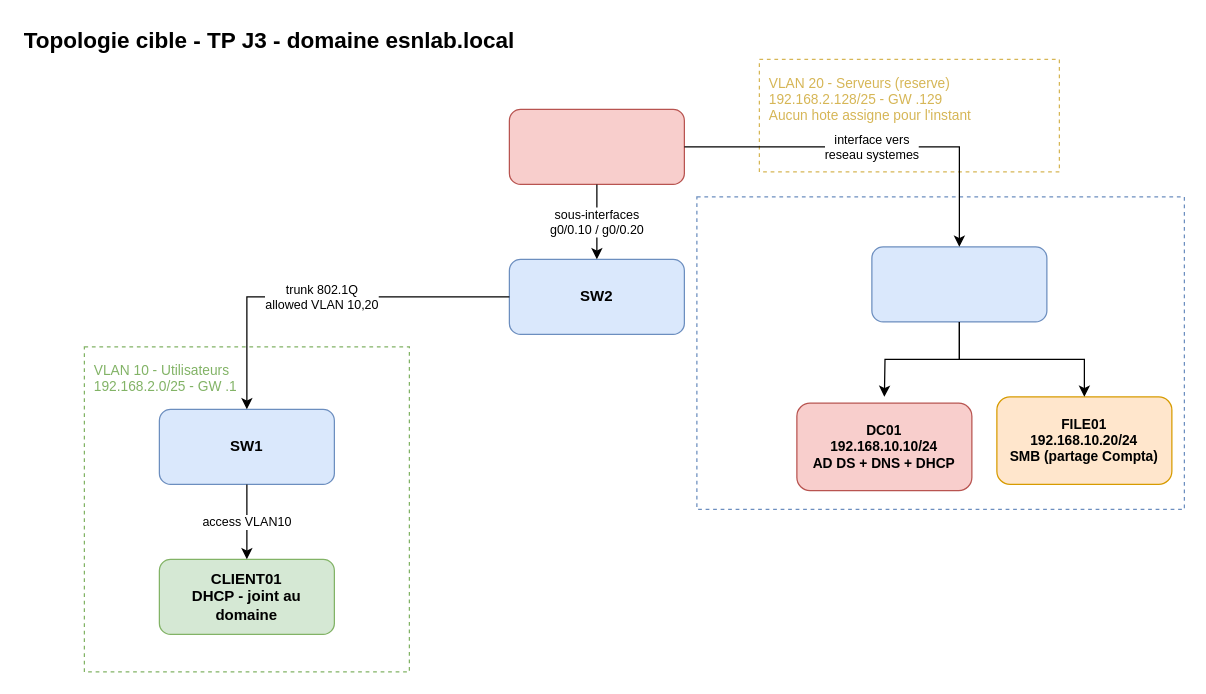
The diagram is 1206 pixels wide and 694 high, and some of its shapes have lost their labels. The box of each missing label's shape, as (x1, y1, x2, y2) in pixels:
R1 Routeur inter-VLAN: (508, 108, 684, 184)
Reseau systemes existant (J2) 192.168.10.0/24 - domaine esnlab.local: (696, 196, 1184, 509)
Switch reseau systemes: (871, 246, 1047, 322)
